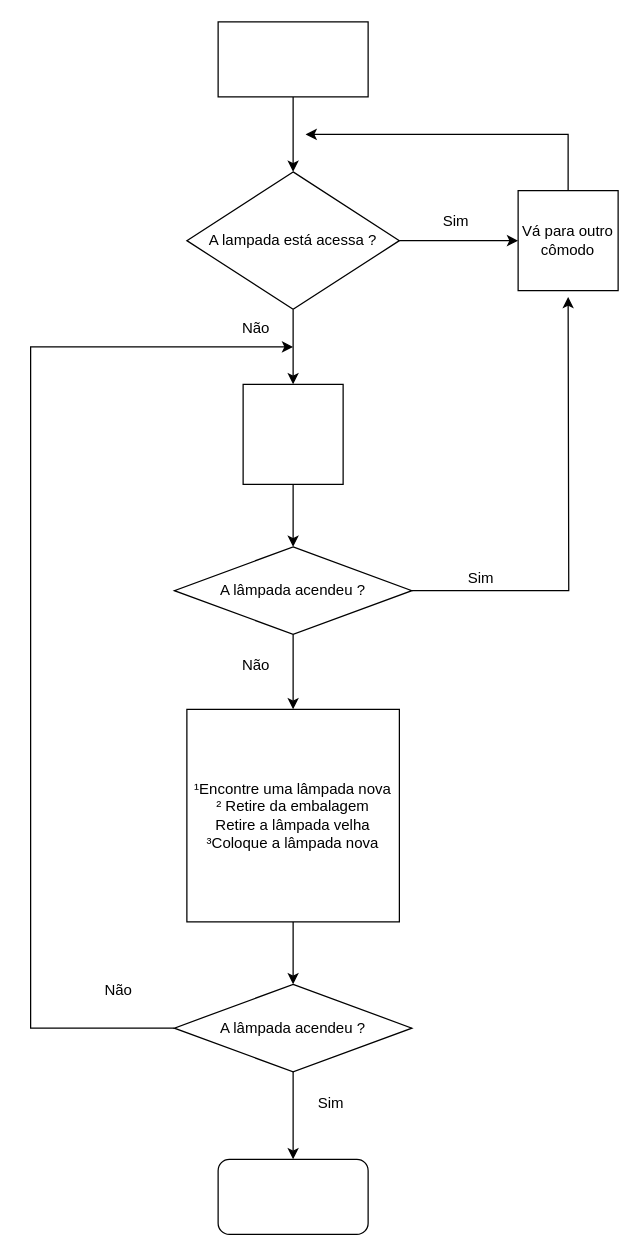
This 640x1256 diagram has some shape labels left out. The shapes that lost their labels are listed below. From the top down, each one's centre as x and y in pixels, then its label:
pixel 292 59: Inicio
pixel 292 433: Aperte o interruptor
pixel 292 1196: Fim
